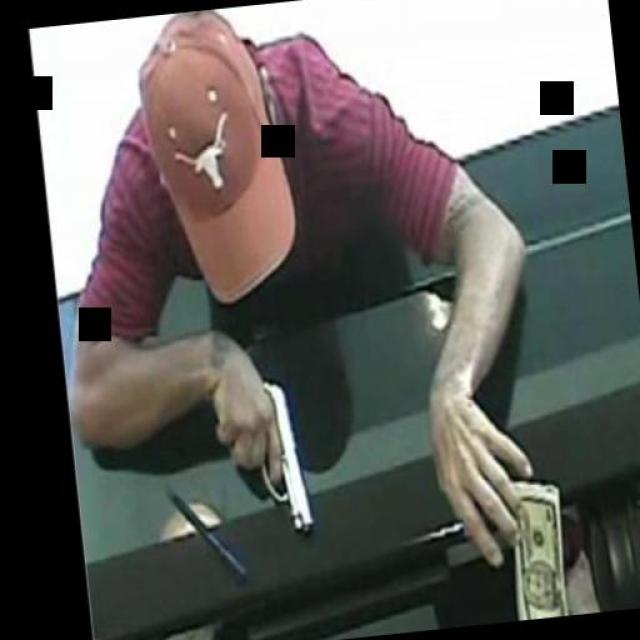gun: (207, 374, 315, 541)
